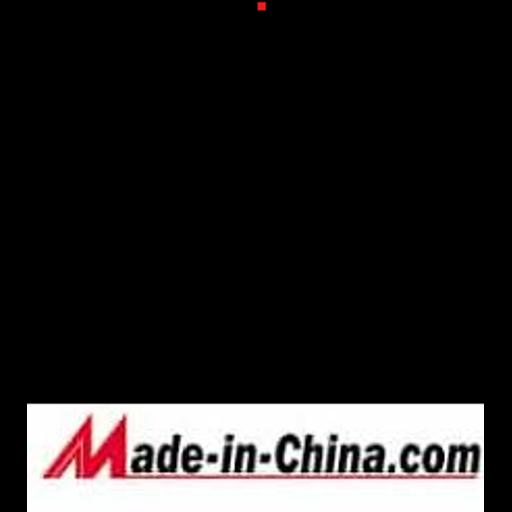Made-In-China: (27, 0, 484, 512)
